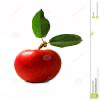Apple leaf: (31, 8, 53, 41), (49, 34, 88, 49)
